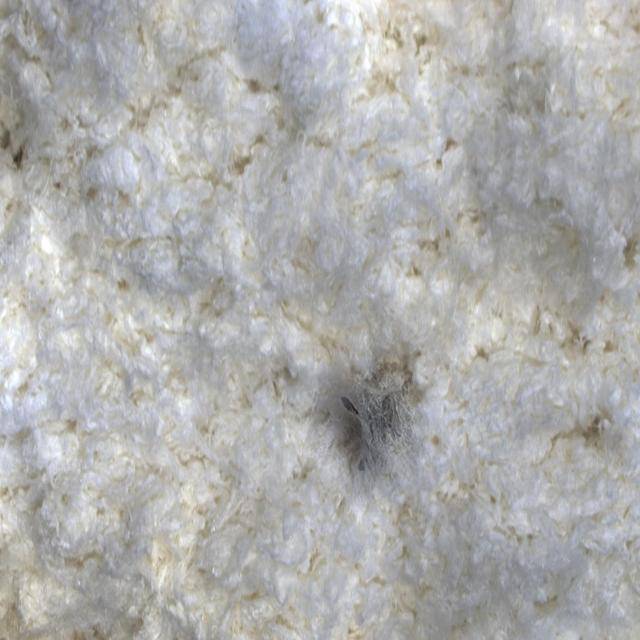dust: (245, 301, 460, 520)
